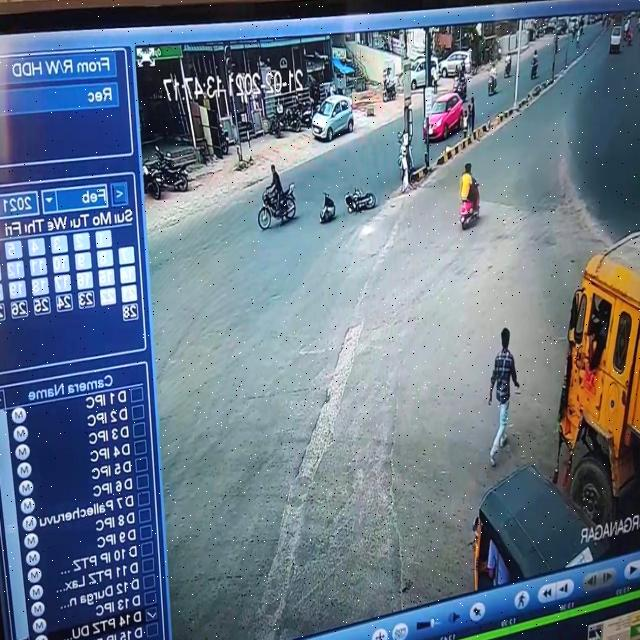accident: (313, 173, 381, 234)
